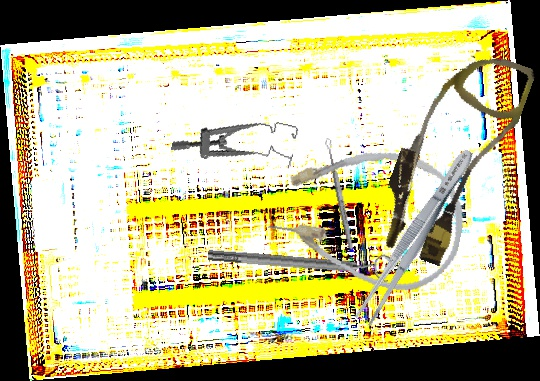Cannula: (367, 36, 538, 275), (260, 130, 475, 301)
Dressing Forceps: (351, 144, 481, 329)
Fixation Ring: (207, 239, 390, 284)
Speculum: (170, 100, 300, 178)
Surgical Spoon: (324, 137, 355, 251)
